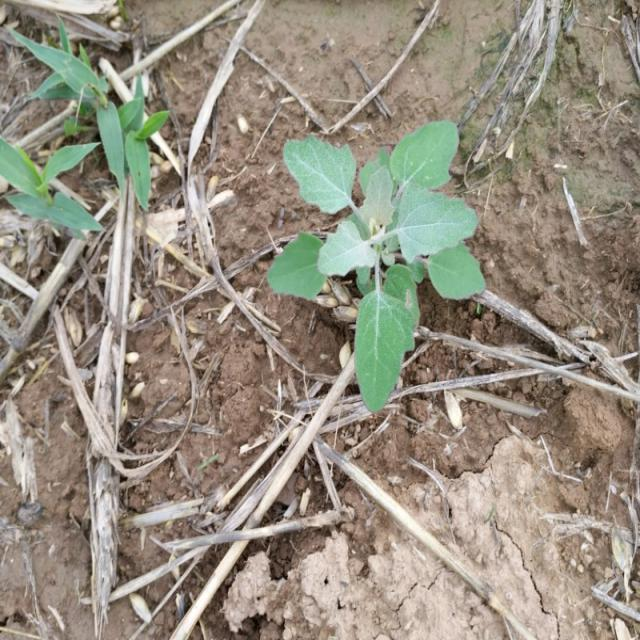goosefoots: (270, 111, 490, 382)
